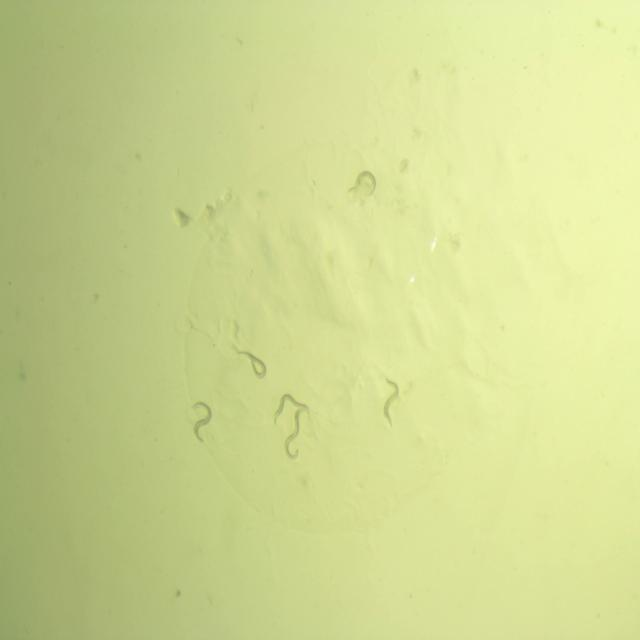worm: (281, 404, 313, 466), (270, 387, 314, 428), (377, 371, 403, 431), (187, 398, 216, 446), (343, 166, 379, 203), (235, 346, 270, 384)
